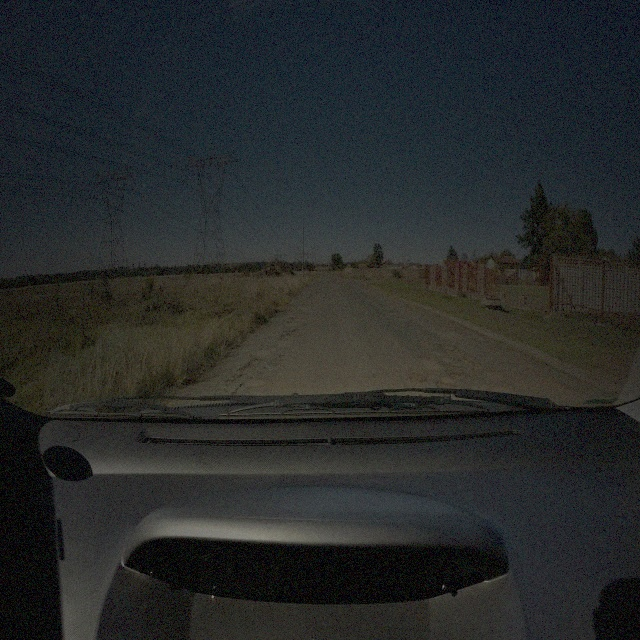pothole: (538, 372, 571, 394), (460, 362, 482, 372), (242, 359, 256, 374), (448, 349, 469, 358), (411, 374, 427, 384), (450, 373, 465, 381), (436, 339, 445, 349), (417, 339, 428, 346)
